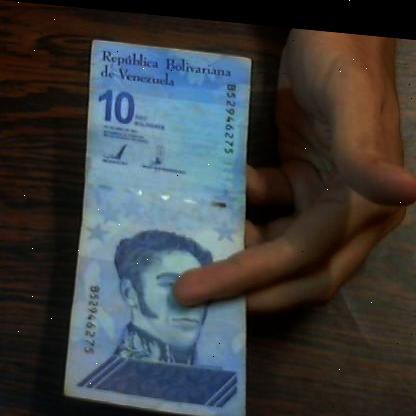vef_front: (64, 37, 250, 416)
